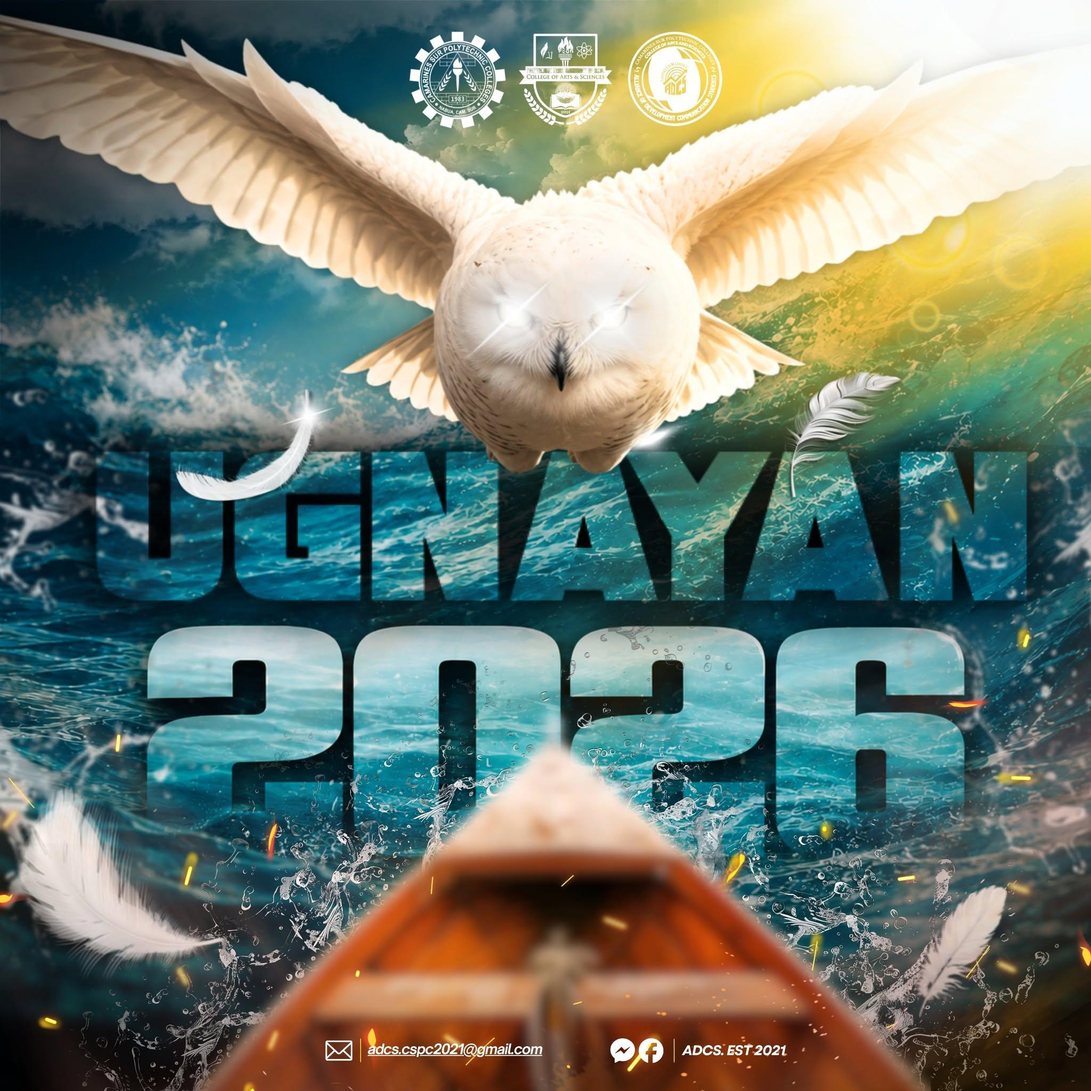embellishment: (0, 10, 1090, 482), (608, 1034, 666, 1066), (322, 1037, 356, 1064)
logo: (403, 27, 512, 131), (515, 25, 619, 131), (623, 26, 727, 128)
text: (83, 439, 1044, 882), (366, 1039, 548, 1058), (681, 1041, 788, 1059)
underlay: (192, 728, 947, 1090)
